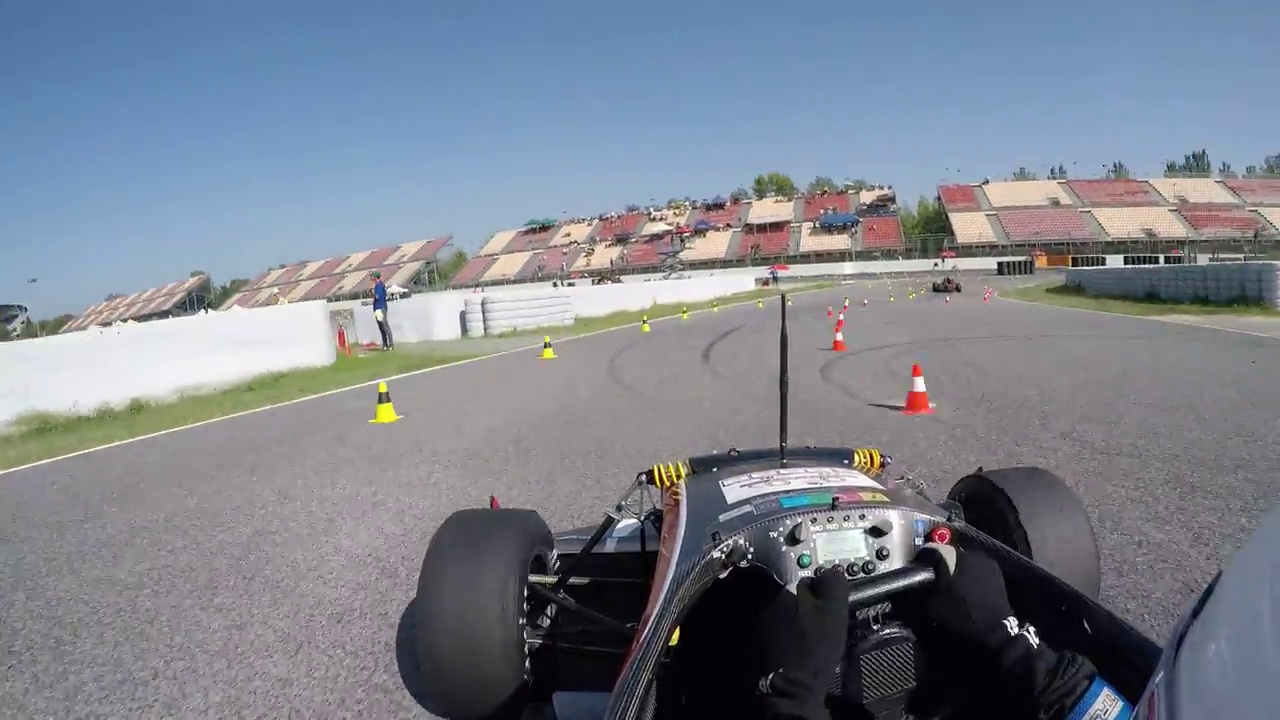Cone: (902, 359, 936, 417), (371, 379, 400, 423), (540, 332, 561, 359)
